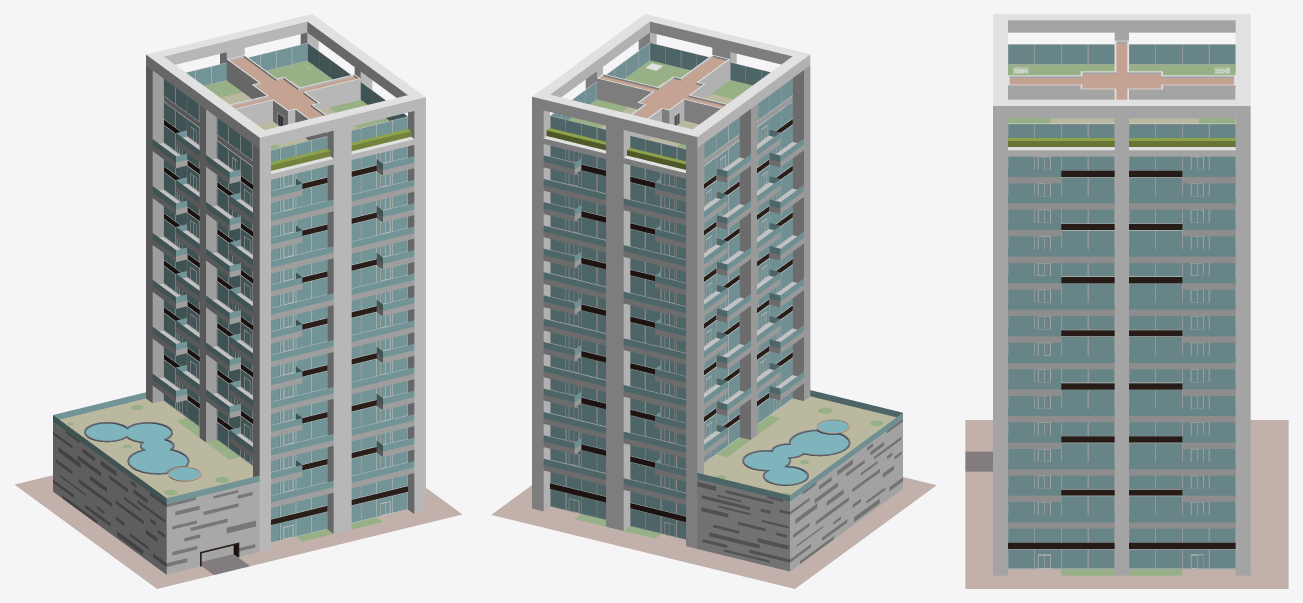
Rendered from adriana_residences_ORIGINAL_DONT_DELETE_OR_EDIT.glb.
The picture shows the model from 3 angles, left to right: view 1: azimuth 30°, elevation 25°; view 2: azimuth 150°, elevation 25°; view 3: azimuth 270°, elevation 25°; orthographic projection. The views are drawn at different scales.
Visible parts, largest first — view 1: Mesh529_FrontColor_0, Mesh529_Condominio_Aragon_0, Mesh529_White_0, Mesh529_Cladding_Siding_White_0, Mesh529_Brick_Pavers_Modular_0, Mesh529_Stone_Pavers_Walk_0, Mesh529__Cladding_Siding_White__copy_0, Mesh529_Water_Pool_Light_0, Mesh529_Metal_Rusted_0, Mesh271_Vegetation_Grass_Artificial_0, Mesh271_Sree_Pearls_1_0, Mesh271_Vegetation_Blur7_0 (+48 smaller); view 2: Mesh529_FrontColor_0, Mesh529_Condominio_Aragon_0, Mesh529_White_0, Mesh529_Cladding_Siding_White_0, Mesh529_Brick_Pavers_Modular_0, Mesh529_Stone_Pavers_Walk_0, Mesh529__Cladding_Siding_White__copy_0, Mesh529_Water_Pool_Light_0, Mesh529_Metal_Rusted_0, Mesh271_Vegetation_Grass_Artificial_0, Mesh271_Sree_Pearls_1_0, Mesh271_Vegetation_Blur7_0 (+45 smaller); view 3: Mesh529_FrontColor_0, Mesh529_Condominio_Aragon_0, Mesh529_Brick_Pavers_Modular_0, Mesh271_Vegetation_Grass_Artificial_0, Mesh529_Metal_Rusted_0, Mesh271_Sree_Pearls_1_0, Mesh257_Condominio_Aragon_0, Mesh363_Condominio_Aragon_0, Mesh457_Condominio_Aragon_0, Mesh449_Condominio_Aragon_0, Mesh271_Vegetation_Blur7_0, Mesh81_Condominio_Aragon_0 (+56 smaller).
Boxes of the visible parts, <box> form: Mesh529_FrontColor_0: <box>146,14,425,551</box>; Mesh529_Condominio_Aragon_0: <box>53,130,414,504</box>; Mesh529_White_0: <box>146,66,259,476</box>; Mesh529_Cladding_Siding_White_0: <box>53,421,259,574</box>; Mesh529_Brick_Pavers_Modular_0: <box>15,475,461,588</box>; Mesh529_Stone_Pavers_Walk_0: <box>60,398,252,497</box>; Mesh529__Cladding_Siding_White__copy_0: <box>53,431,255,566</box>; Mesh529_Water_Pool_Light_0: <box>86,423,200,480</box>; Mesh529_Metal_Rusted_0: <box>231,57,356,118</box>; Mesh271_Vegetation_Grass_Artificial_0: <box>204,61,388,149</box>; Mesh271_Sree_Pearls_1_0: <box>271,137,414,179</box>; Mesh271_Vegetation_Blur7_0: <box>271,129,411,170</box>; Mesh529_FrontColor_0: <box>532,14,810,548</box>; Mesh529_Condominio_Aragon_0: <box>543,130,902,501</box>; Mesh529_White_0: <box>697,65,810,474</box>; Mesh529_Cladding_Siding_White_0: <box>697,422,902,571</box>; Mesh529_Brick_Pavers_Modular_0: <box>491,477,936,588</box>; Mesh529_Stone_Pavers_Walk_0: <box>704,396,895,495</box>; Mesh529__Cladding_Siding_White__copy_0: <box>697,419,902,563</box>; Mesh529_Water_Pool_Light_0: <box>744,420,848,484</box>; Mesh529_Metal_Rusted_0: <box>601,57,725,118</box>; Mesh271_Vegetation_Grass_Artificial_0: <box>568,60,752,148</box>; Mesh271_Sree_Pearls_1_0: <box>543,136,685,178</box>; Mesh271_Vegetation_Blur7_0: <box>546,128,685,169</box>; Mesh529_FrontColor_0: <box>993,14,1250,575</box>; Mesh529_Condominio_Aragon_0: <box>1008,169,1235,522</box>; Mesh529_Brick_Pavers_Modular_0: <box>965,420,1288,588</box>; Mesh271_Vegetation_Grass_Artificial_0: <box>1008,64,1235,123</box>; Mesh529_Metal_Rusted_0: <box>1009,43,1233,99</box>; Mesh271_Sree_Pearls_1_0: <box>1008,147,1235,156</box>; Mesh257_Condominio_Aragon_0: <box>1129,44,1235,63</box>; Mesh363_Condominio_Aragon_0: <box>1008,44,1114,63</box>; Mesh457_Condominio_Aragon_0: <box>1129,549,1235,568</box>; Mesh449_Condominio_Aragon_0: <box>1008,549,1114,568</box>; Mesh271_Vegetation_Blur7_0: <box>1008,138,1235,146</box>; Mesh81_Condominio_Aragon_0: <box>1129,283,1235,302</box>.
Size of the model in its own units: 0.5404 by 0.7004 by 0.4369.
